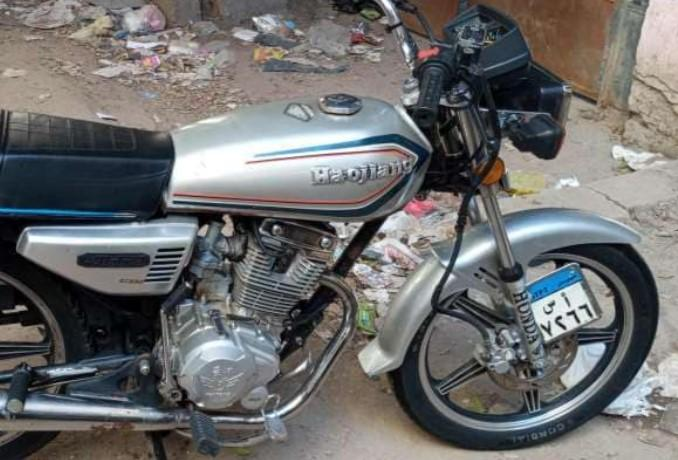License Plate: (520, 263, 608, 343)
